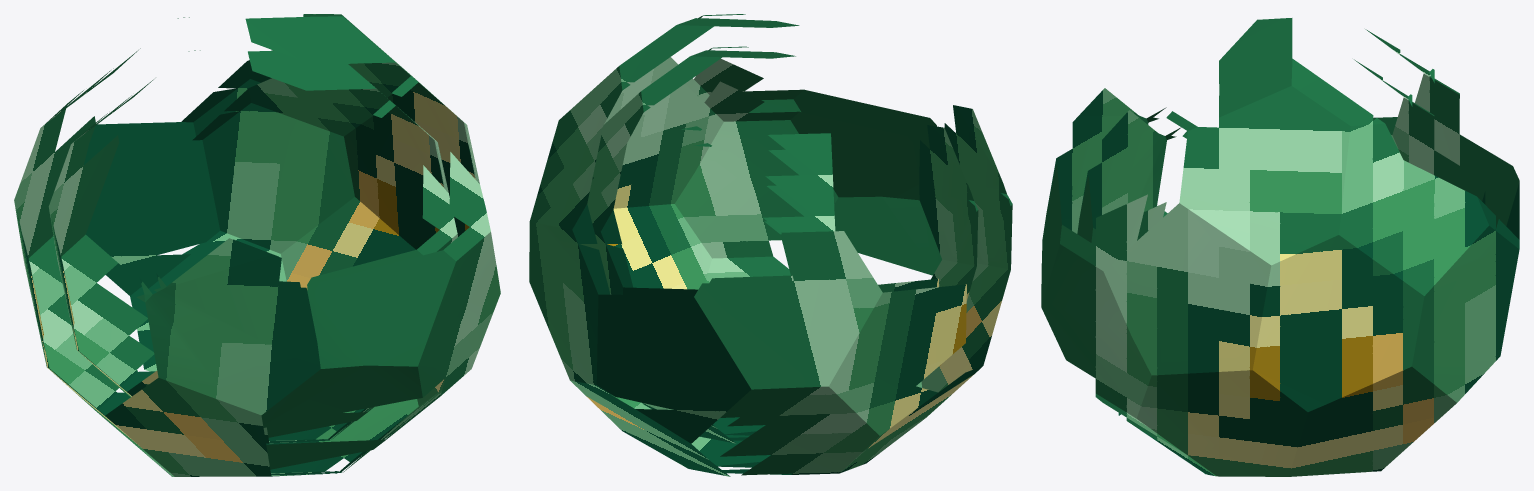
Rendered from delta_orb_6.obj.
3 views of the same model, side by side, from view 1: azimuth 30°, elevation 25°; view 2: azimuth 150°, elevation 25°; view 3: azimuth 270°, elevation 25° (orthographic).
Visible parts, largest first — view 1: pSolid4; view 2: pSolid4; view 3: pSolid4.
Part boxes in pixels (left/top/right/bottom): pSolid4: left=14, top=14, right=500, bottom=476; pSolid4: left=529, top=14, right=1012, bottom=476; pSolid4: left=1041, top=18, right=1519, bottom=476.
Bounding box in the file's own units: 0.8452 × 0.8539 × 0.8248.
